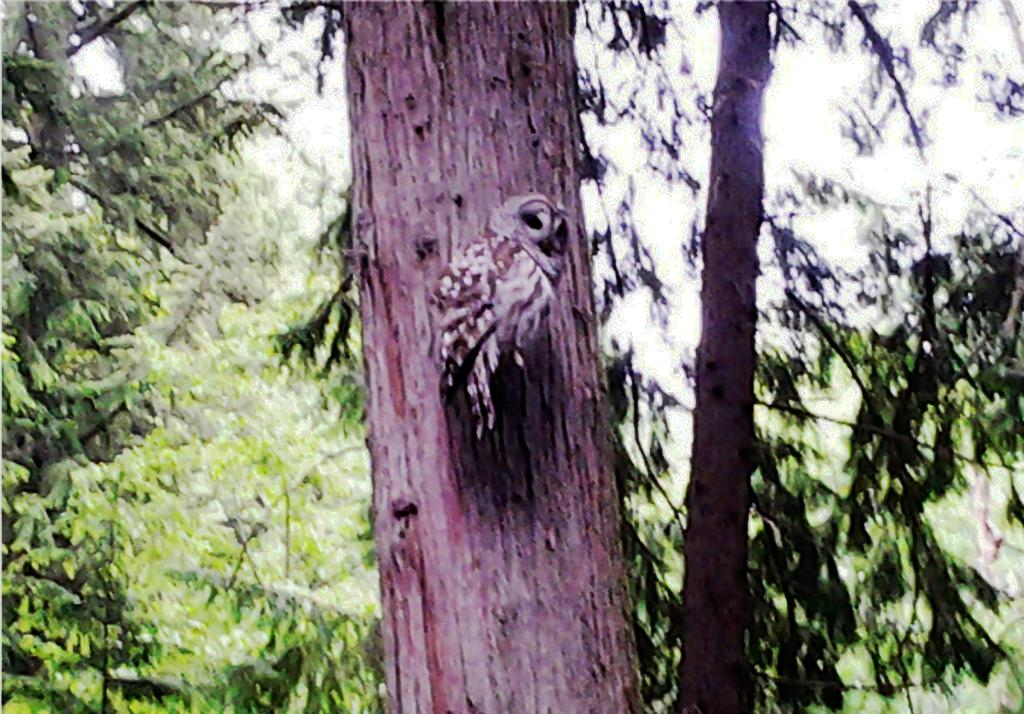Owl: (414, 195, 574, 442)
